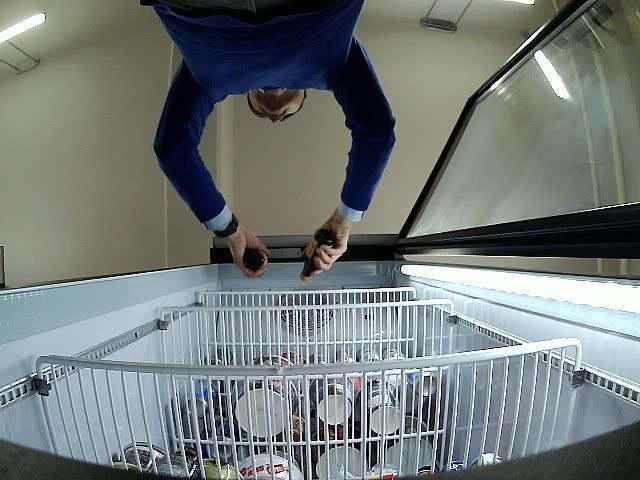17_vita500: (301, 229, 341, 283), (241, 246, 268, 276)
